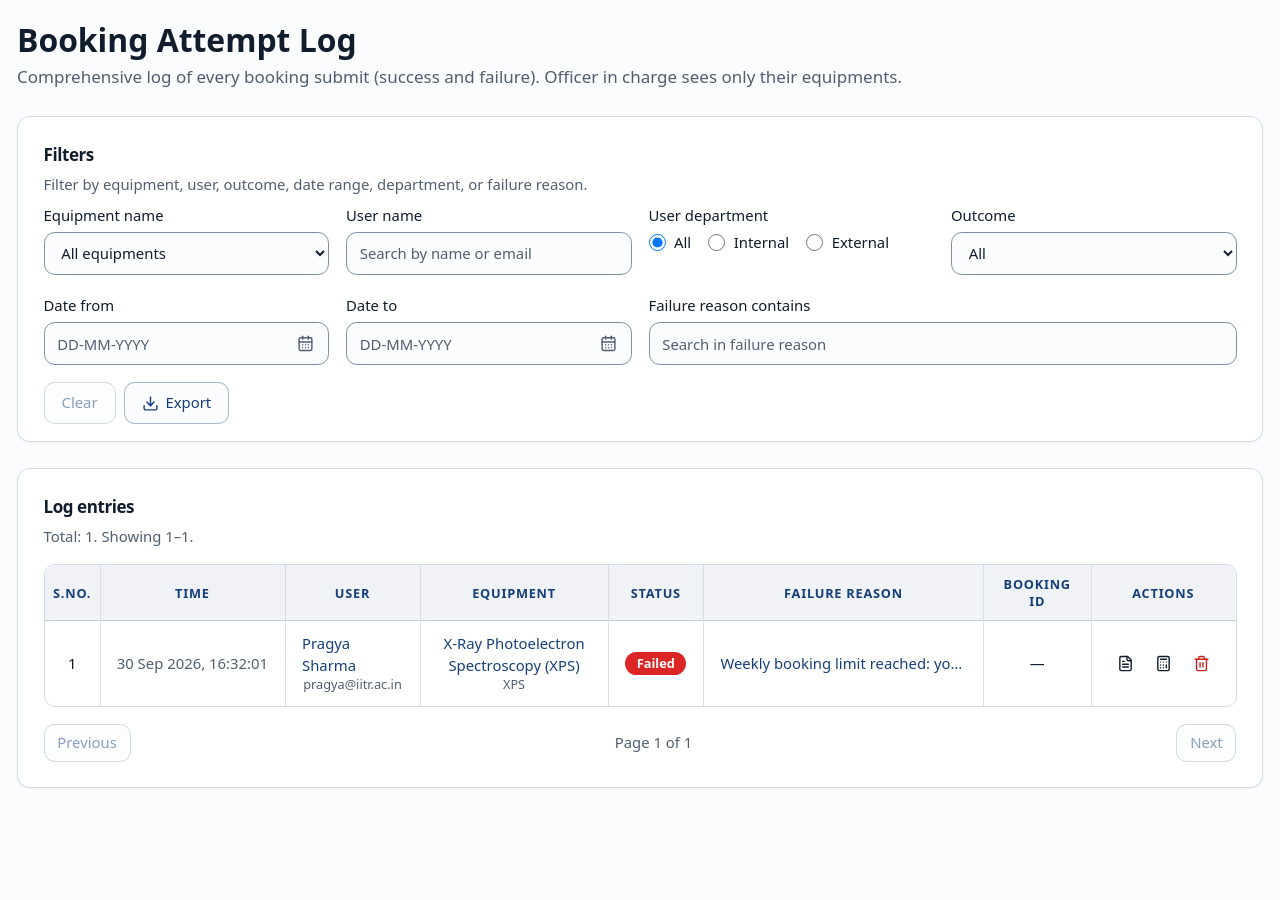
Test case: Booking Attempt Log details › shows the bookings counted and the supervisor inline after the outcome for a quota failure, without a click
Click the button with aria-label "View attempt details: Weekly booking limit reached" at (844, 663), box [720,652,966,674]
(page scrolled)
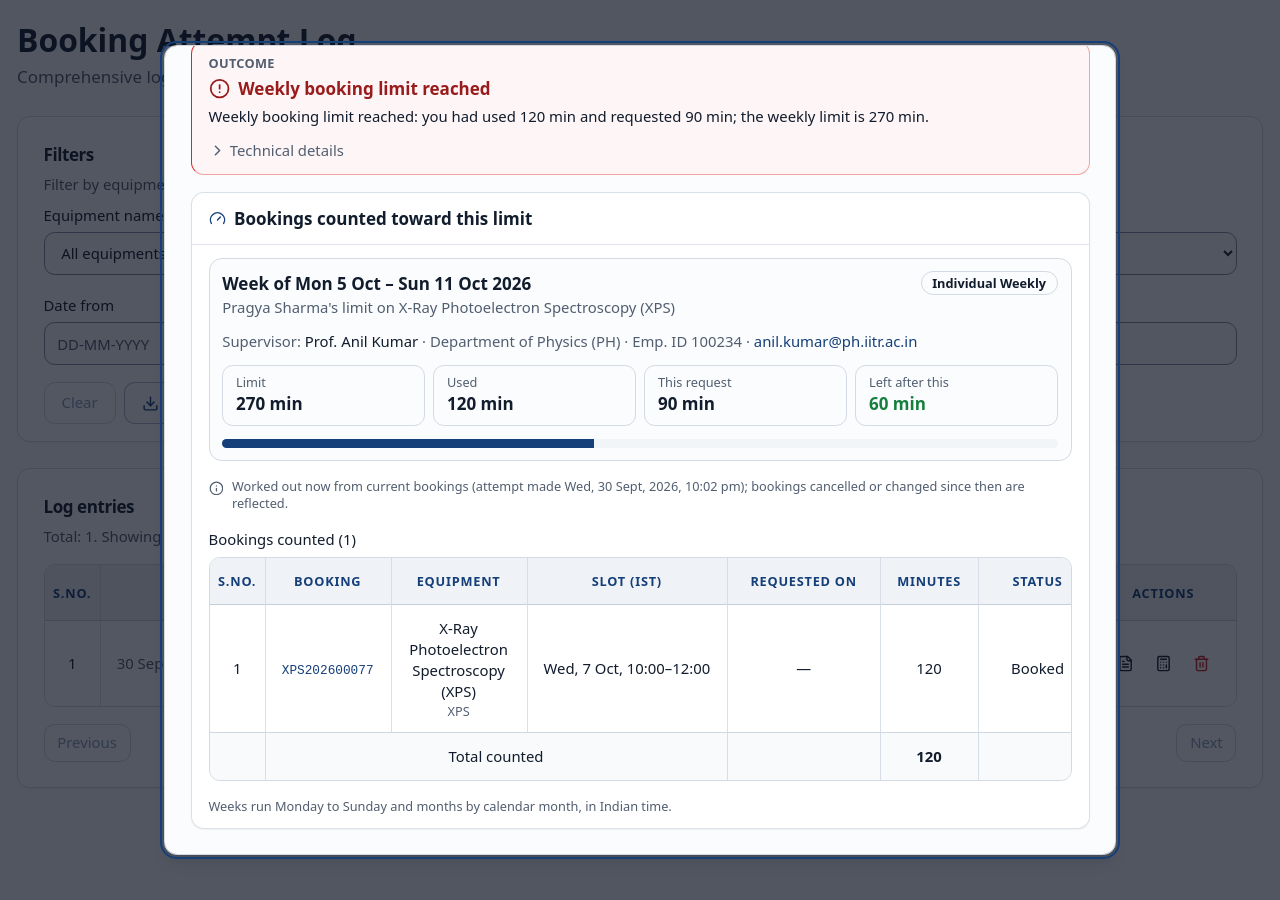
Expected: the text "Week of Mon 5 Oct – Sun 11 Oct 2026" is shown, [222,272,531,295]
Expected: the button "XPS202600077" is shown, [282,662,374,679]
Expected: the element with test id "quota-supervisor" shows "Prof. Anil Kumar", [305,331,418,351]
